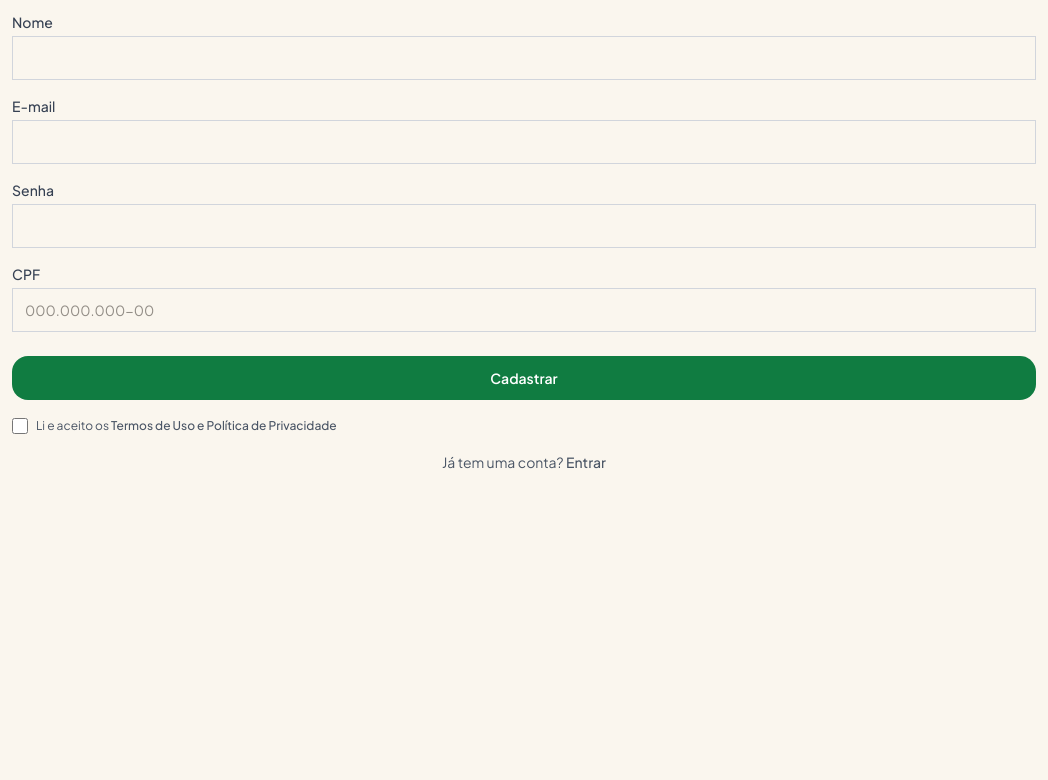
Test: RegisterForm › should show validation error for short name
Step 1. Type "A" into the field labelled "Nome" → (524, 58), box x1=12 y1=36 x2=1036 y2=80
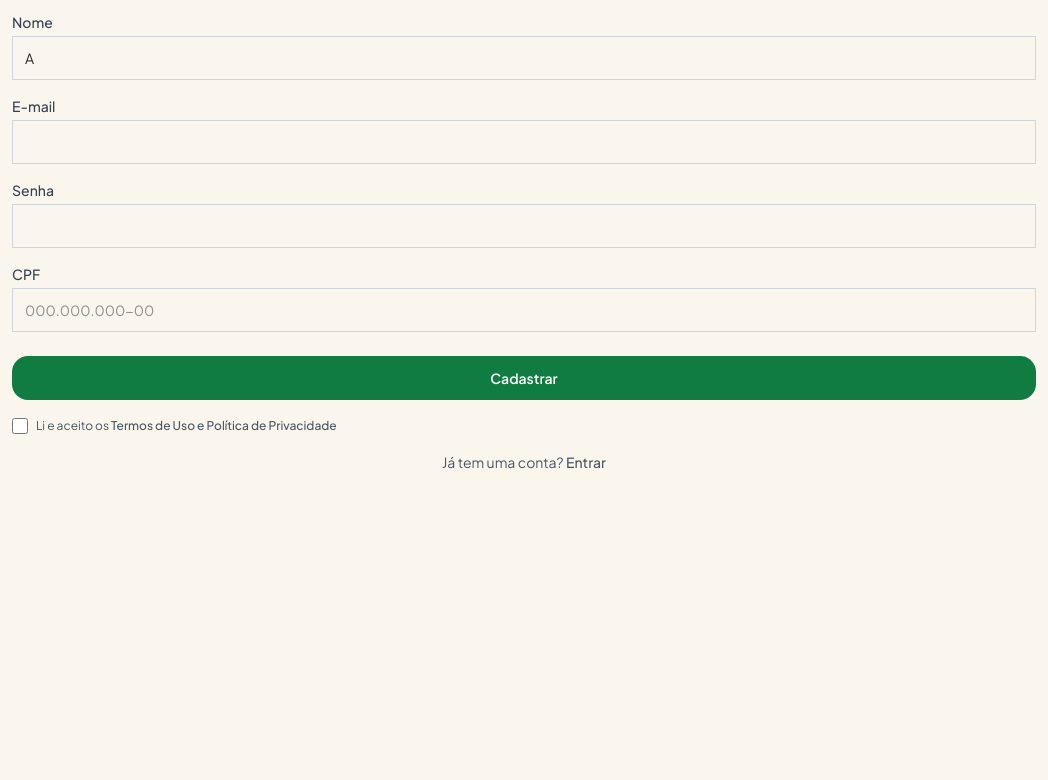
Step 2. Click the button "Cadastrar" → (524, 378), box x1=12 y1=356 x2=1036 y2=400
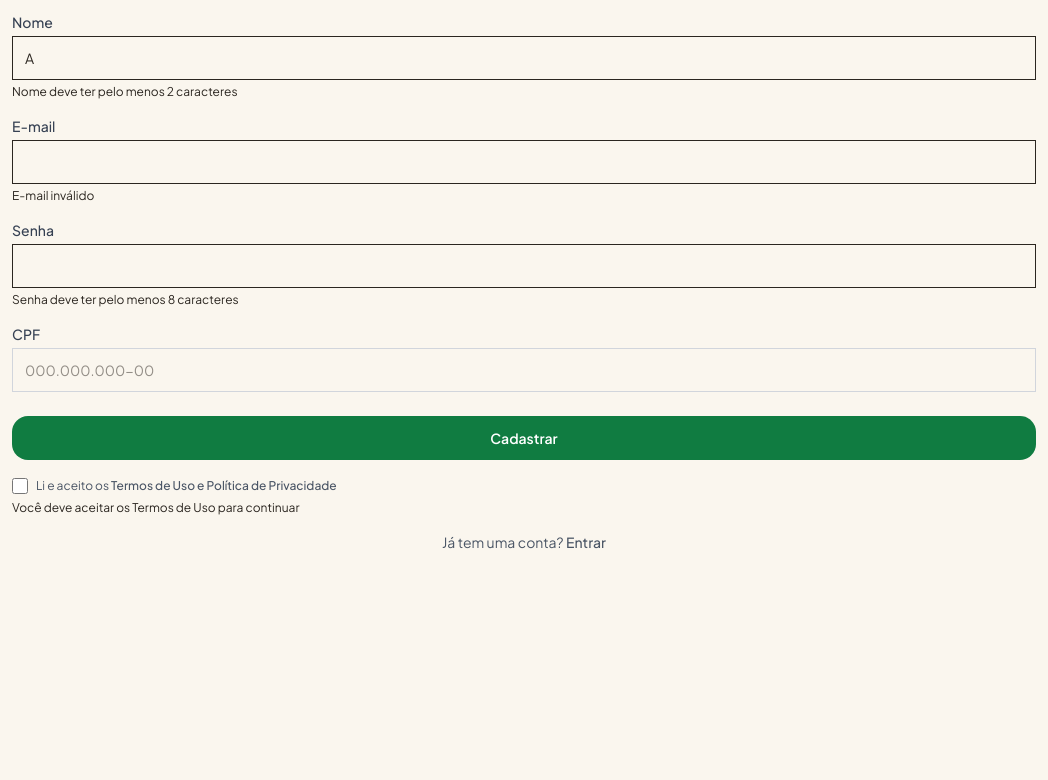
Result: the text "Nome deve ter pelo menos 2 caracteres" is shown at x1=12 y1=84 x2=238 y2=99
